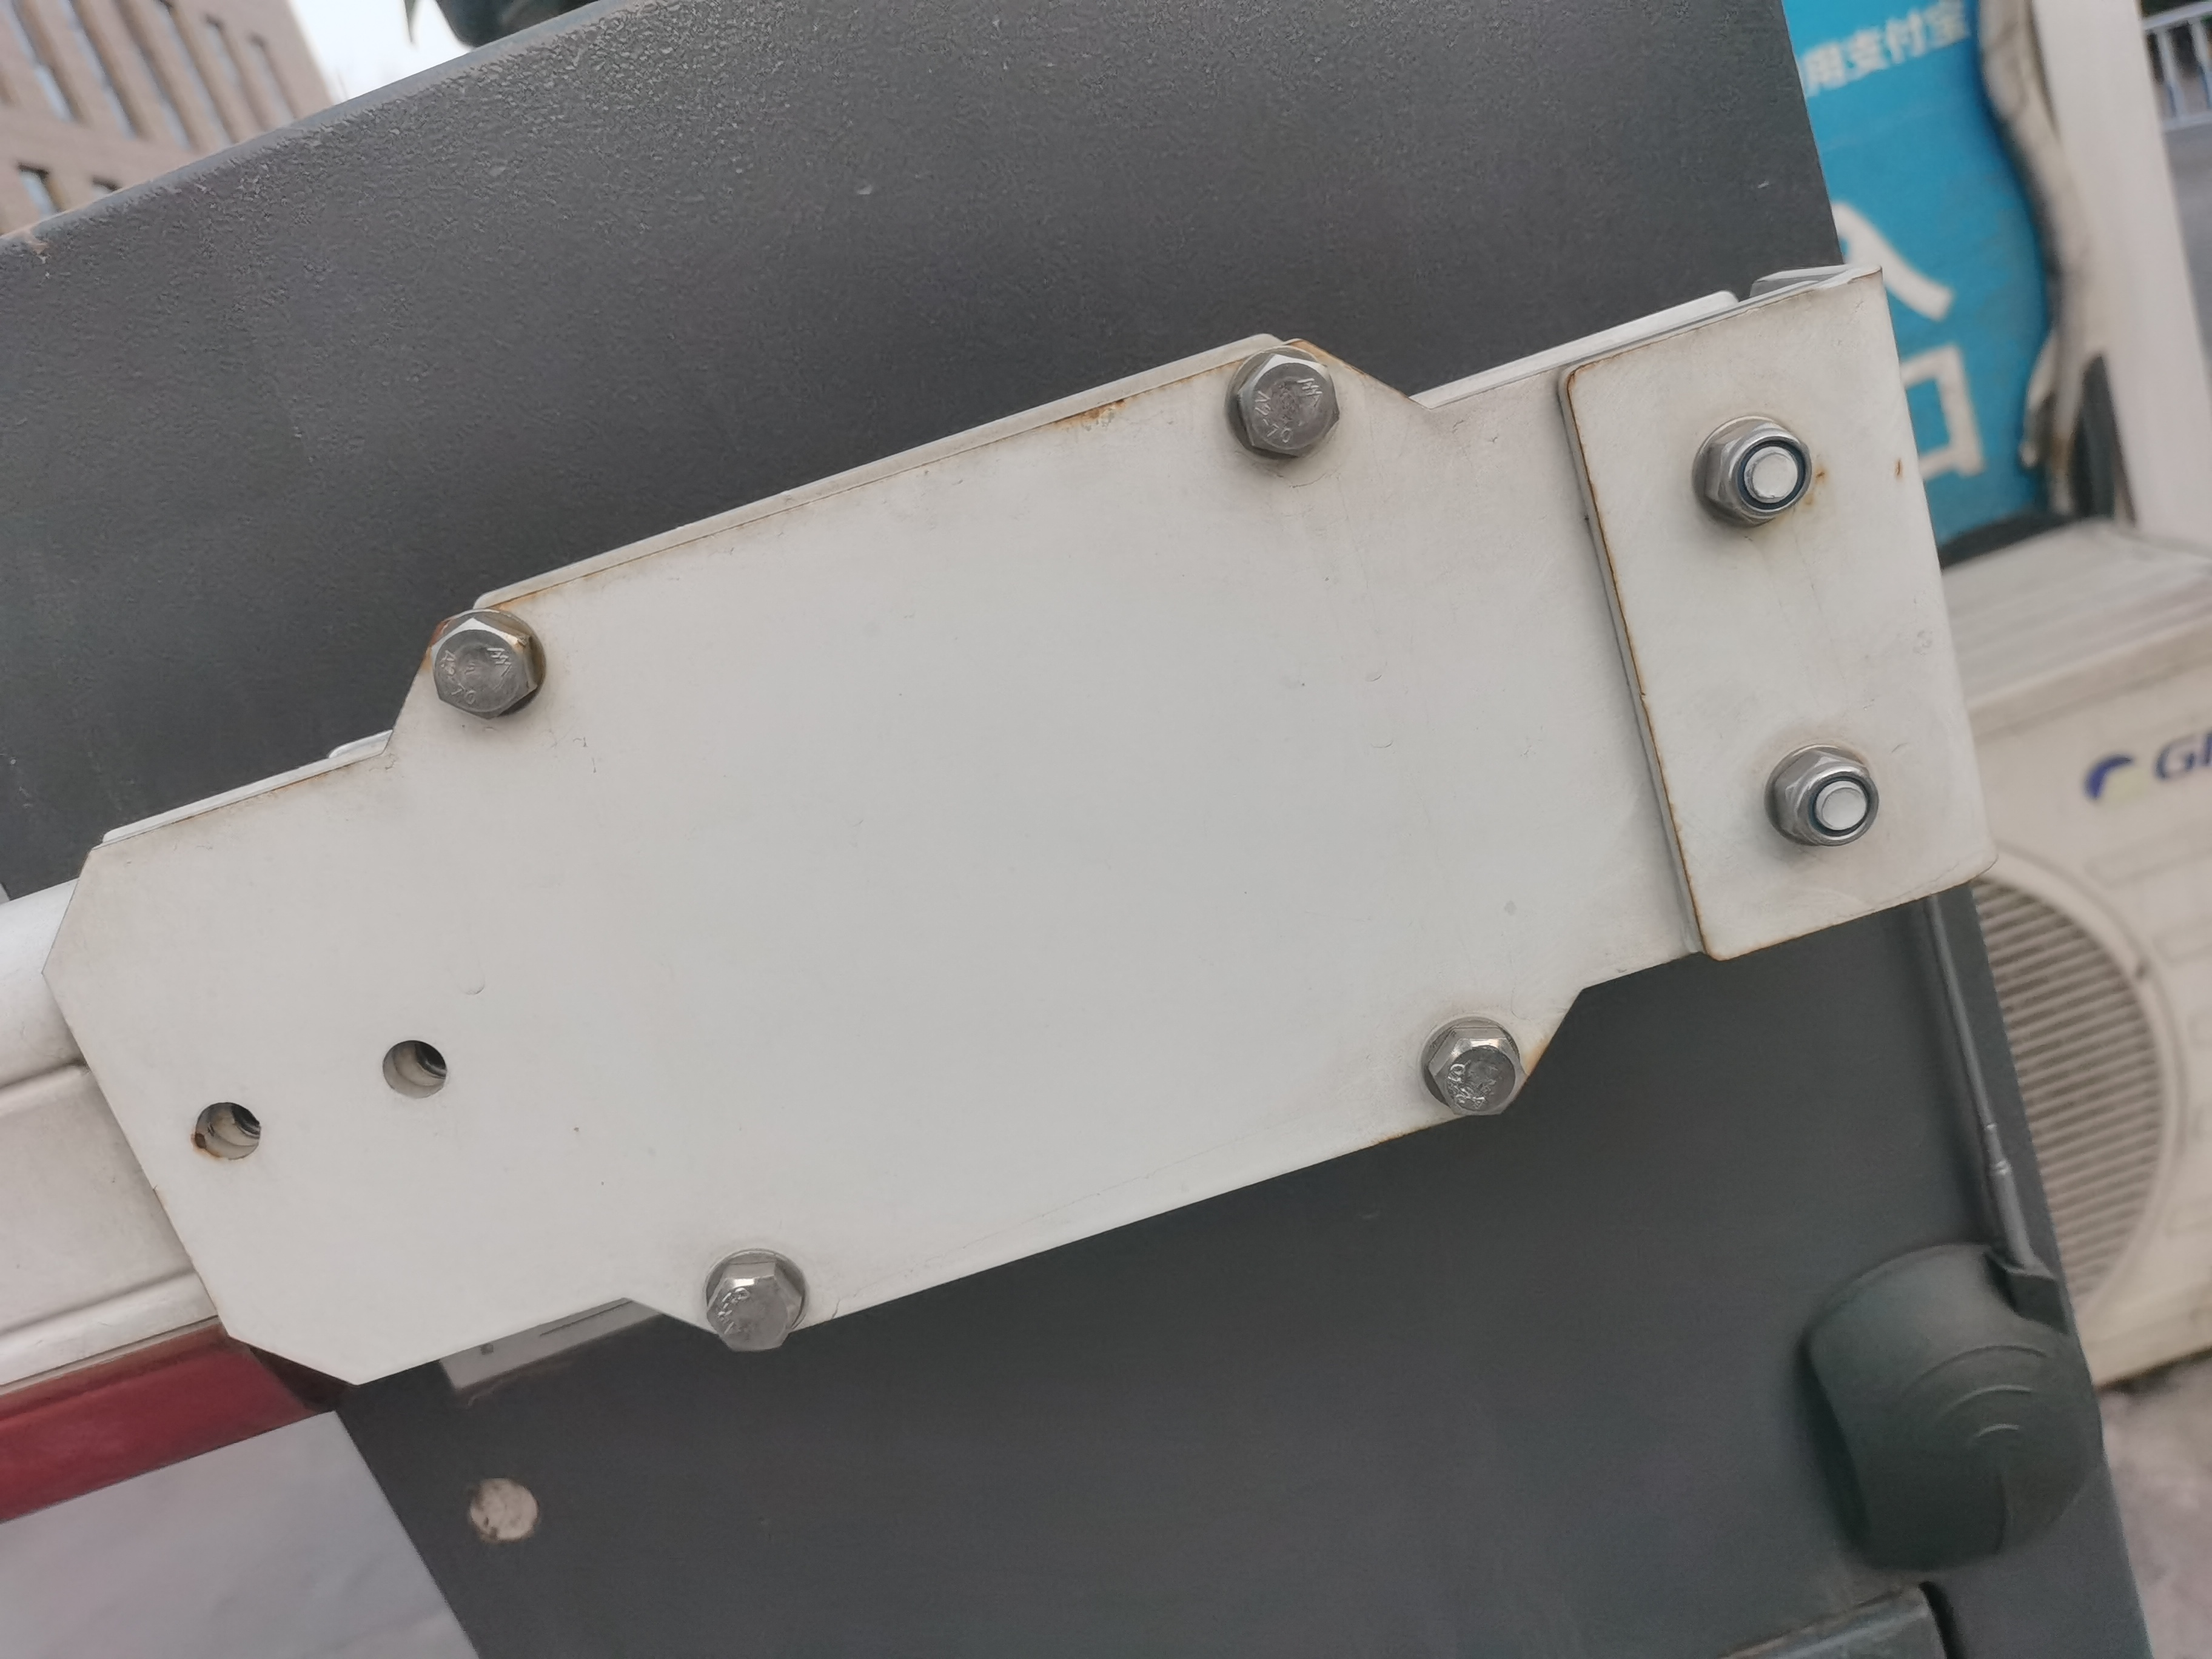bolt_a: (423, 608, 545, 723), (1233, 347, 1343, 464), (702, 1256, 805, 1354), (1425, 1025, 1529, 1119)
bolt_b: (1698, 413, 1817, 533), (1768, 746, 1883, 850)
